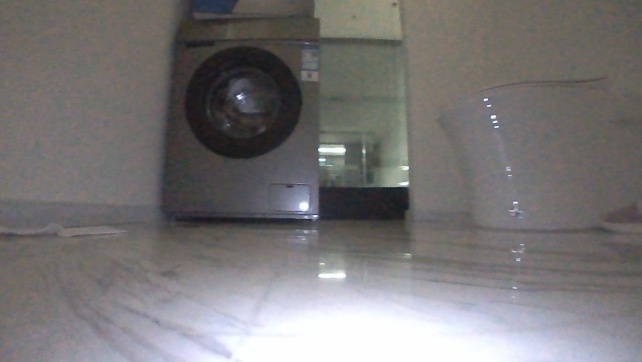shoe: (593, 200, 640, 235)
toilet: (429, 68, 640, 233)
washing_machine: (154, 11, 329, 227)
